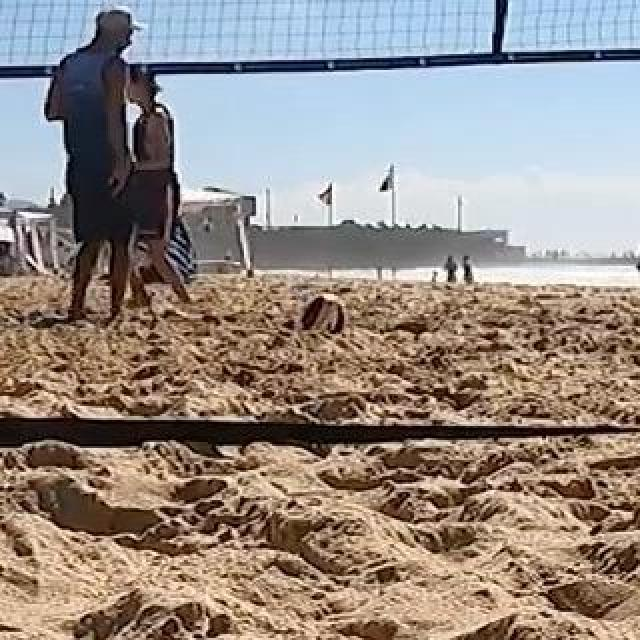volleyball: (304, 294, 346, 338)
